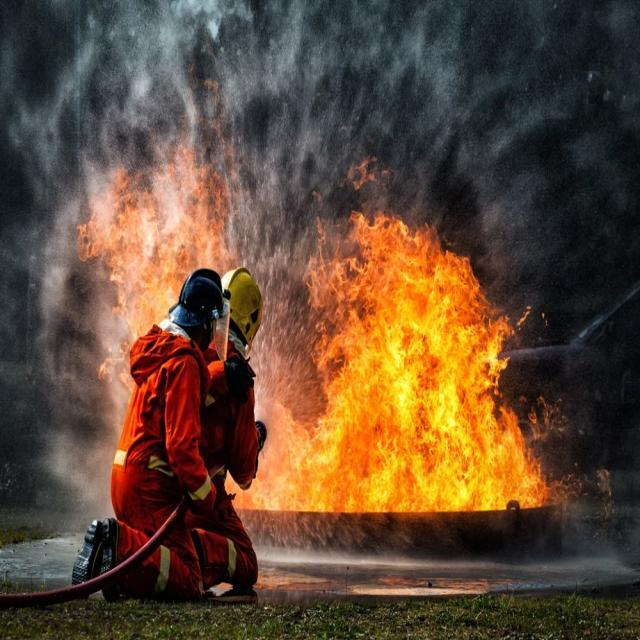Fire: (229, 155, 582, 513), (80, 162, 182, 338), (180, 74, 228, 270), (97, 334, 137, 390)
Smoke: (3, 0, 583, 166), (37, 163, 85, 358)
